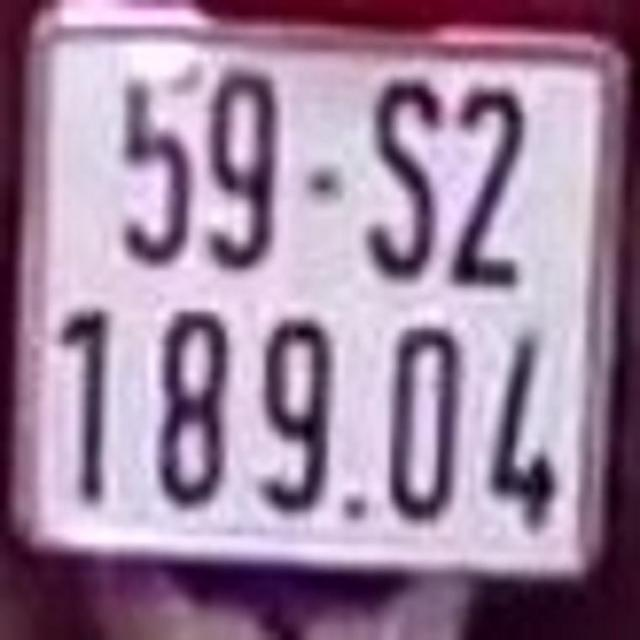0: (388, 321, 456, 521)
1: (56, 304, 108, 499)
2: (452, 79, 523, 287)
4: (487, 325, 561, 528)
5: (118, 53, 189, 270)
8: (153, 307, 226, 504)
9: (257, 308, 334, 510), (208, 60, 276, 268)
S: (369, 74, 440, 285)
